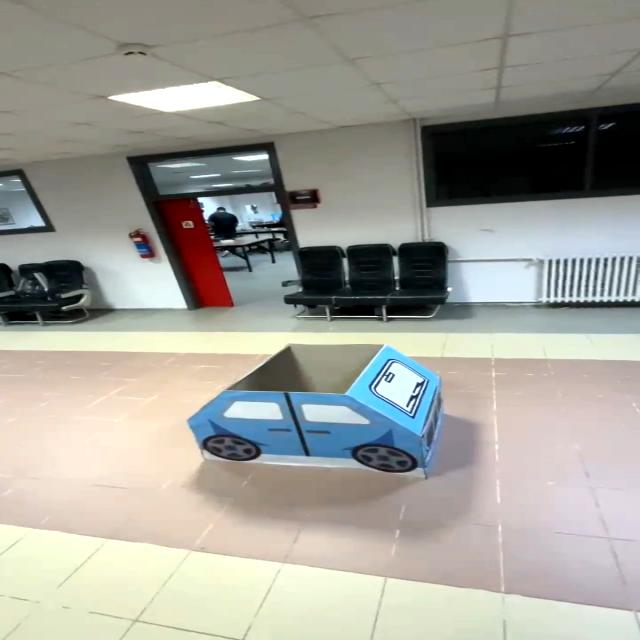blue_car: (157, 329, 480, 497)
